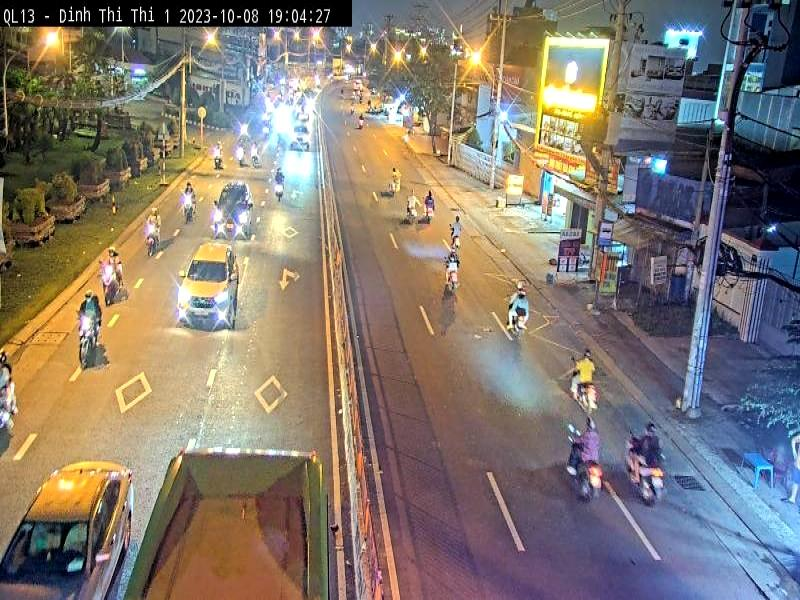bus: (123, 400, 327, 600)
car: (1, 453, 135, 600), (177, 233, 244, 358), (210, 166, 258, 229)
motorcycle: (612, 421, 671, 514), (556, 427, 603, 526)
